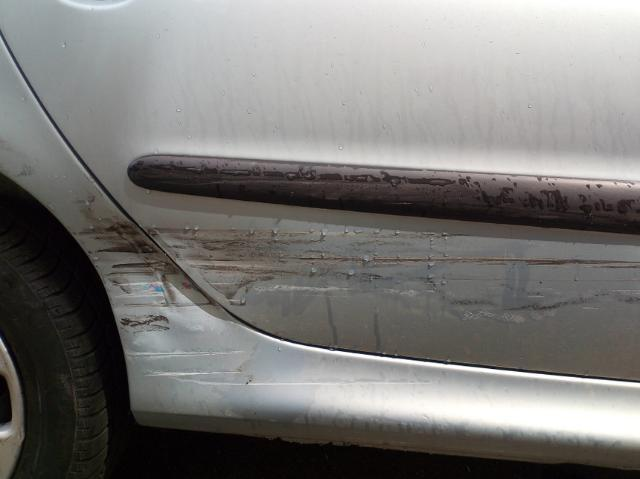Door: (36, 140, 640, 461)
